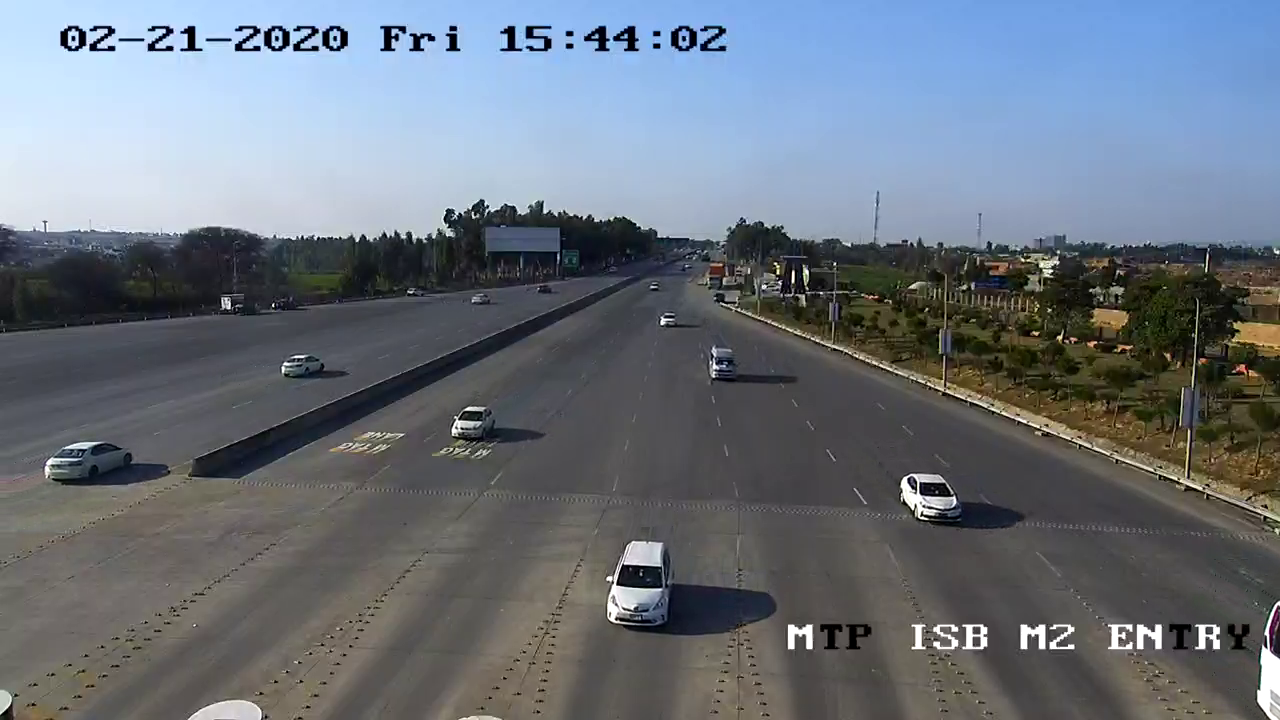f1: (594, 531, 683, 637), (891, 460, 971, 534), (446, 398, 499, 446)
